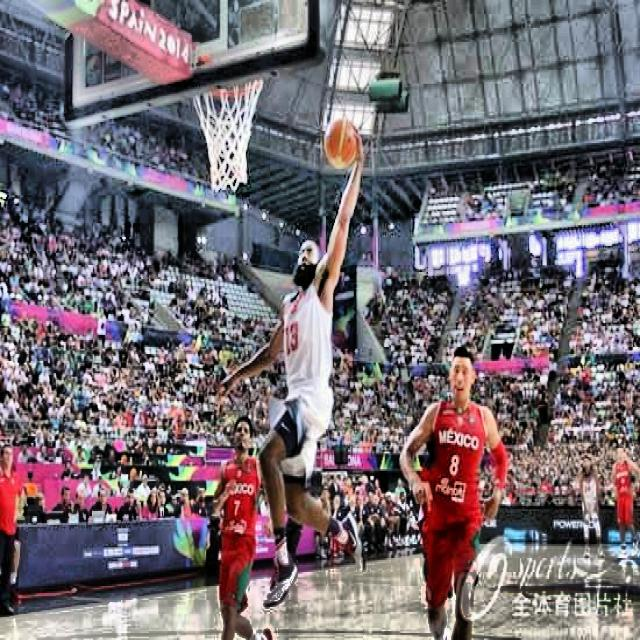rim: (192, 77, 264, 188)
